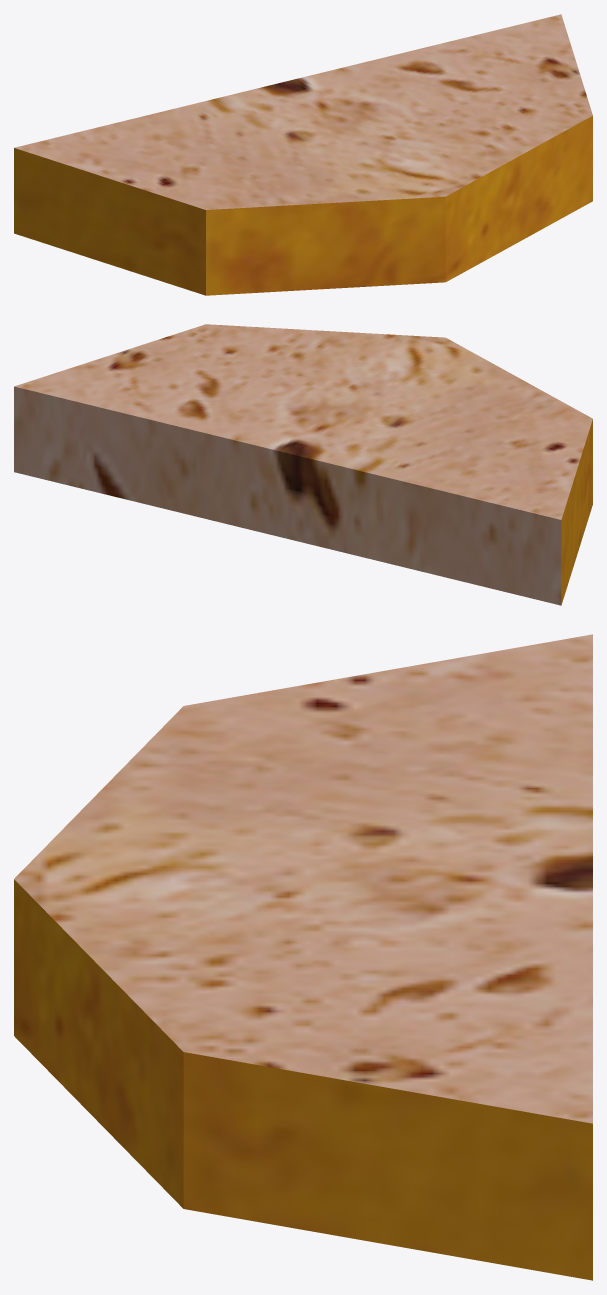
File: Cha.fbx
3 views of the same model, one above another, from view 1: azimuth 30°, elevation 25°; view 2: azimuth 150°, elevation 25°; view 3: azimuth 270°, elevation 25° (orthographic). The views are drawn at different scales.
Parts seen in each view (by area): view 1: ChaThit; view 2: ChaThit; view 3: ChaThit.
Boxes of the visible parts, x1,y1,x2,y2 form: ChaThit: (14,14,592,295); ChaThit: (14,324,592,605); ChaThit: (14,634,592,1280).
Bounding box in the file's own units: 16.15 × 2.42 × 8.08.
Materials: 2 (2 with a texture image).
